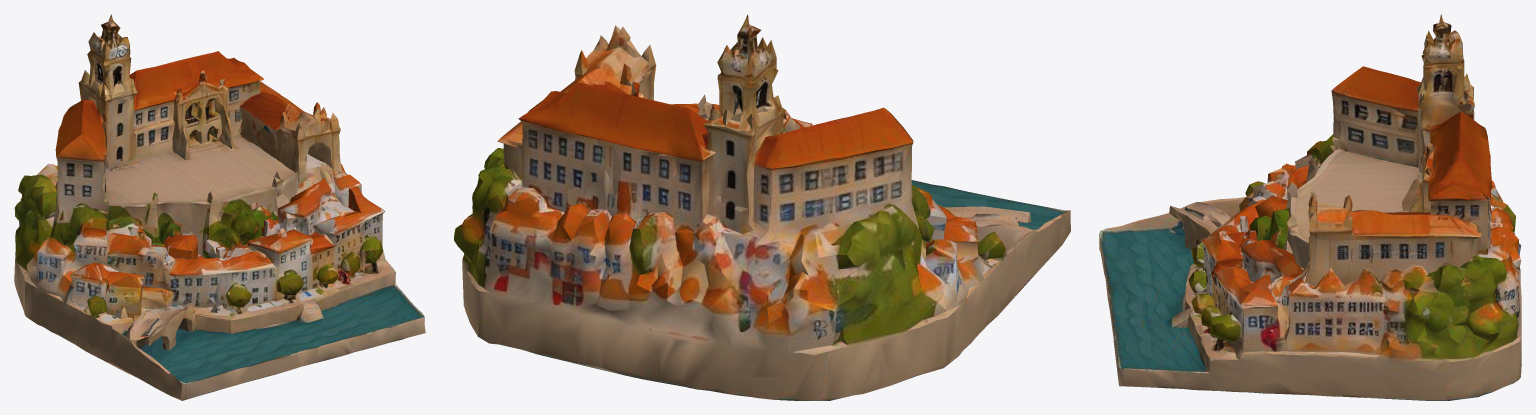
The model's file is coimbra-university.glb.
3 views of the same model, side by side, from view 1: azimuth 30°, elevation 25°; view 2: azimuth 150°, elevation 25°; view 3: azimuth 270°, elevation 25° (orthographic). The views are drawn at different scales.
Parts seen in each view (by area): view 1: logan-textured.obj; view 2: logan-textured.obj; view 3: logan-textured.obj.
Boxes of the visible parts, x1,y1,x2,y2 form: logan-textured.obj: [14, 14, 425, 400]; logan-textured.obj: [454, 14, 1070, 400]; logan-textured.obj: [1099, 14, 1521, 400].
Bounding box in the file's own units: 0.9563 × 0.7377 × 1.
1 material, 1 textured.
